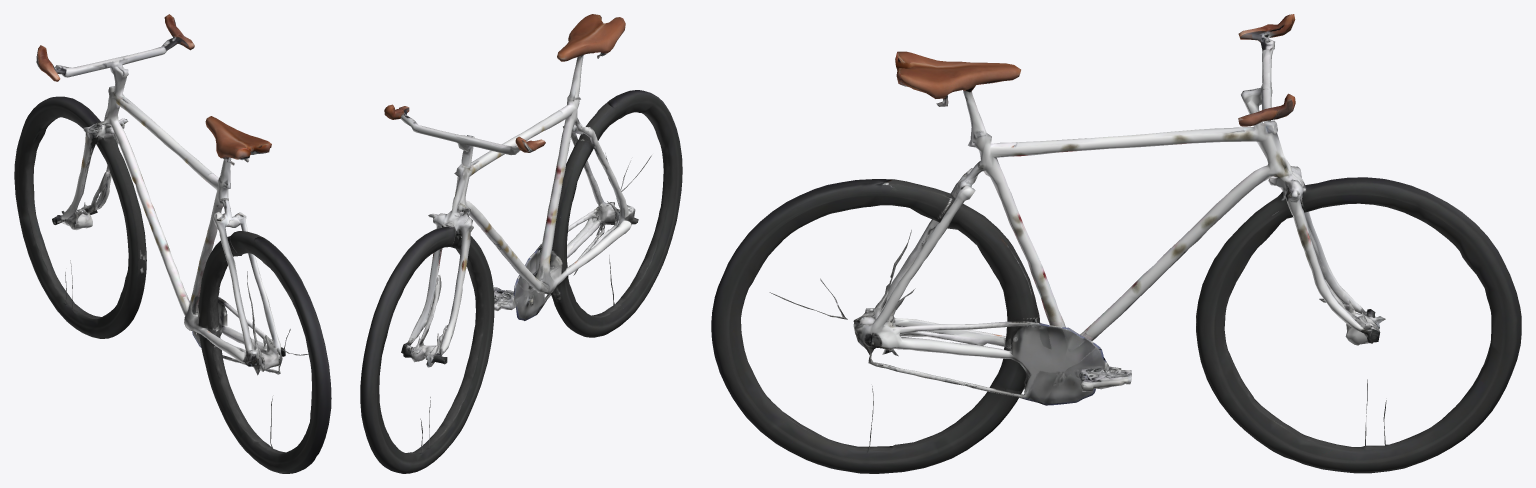
File: Vintage_Racing_Bicycl_0421165033_texture.glb
3 renders of one model, left to right at view 1: azimuth 30°, elevation 25°; view 2: azimuth 150°, elevation 25°; view 3: azimuth 270°, elevation 25°, orthographic. The views are drawn at different scales.
Bounding box in the file's own units: 0.5339 × 1.14 × 2.
Materials: 1 (1 with a texture image).
